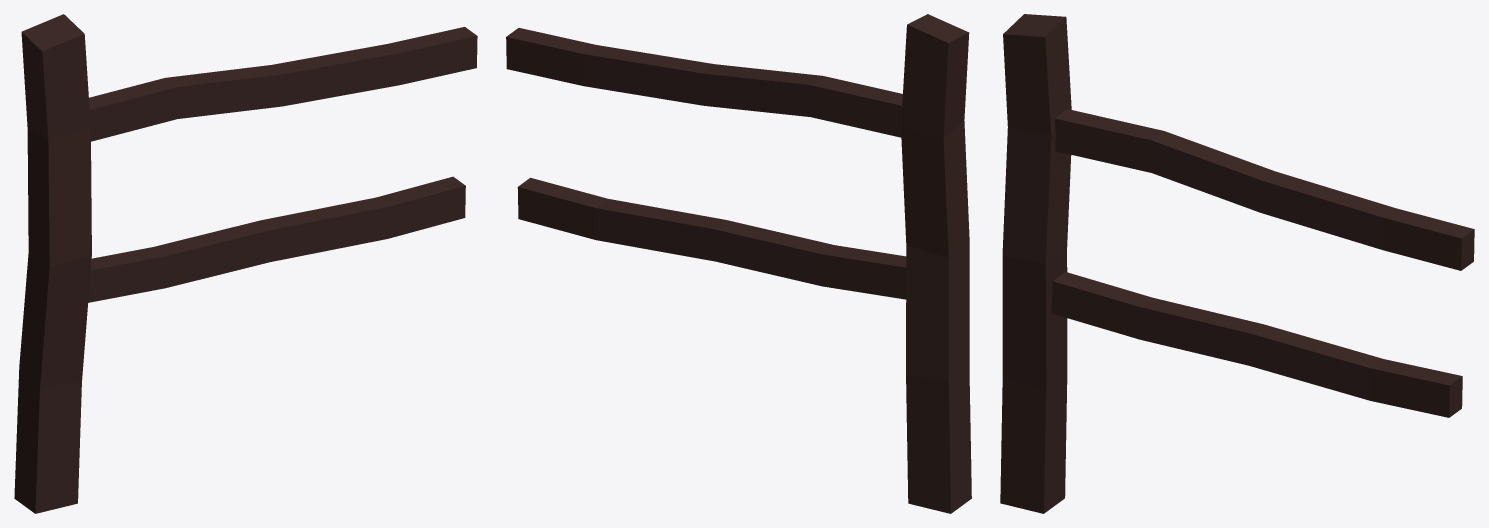
File: fence_short3.fbx
3 renders of one model, left to right at view 1: azimuth 30°, elevation 25°; view 2: azimuth 150°, elevation 25°; view 3: azimuth 330°, elevation 25°, orthographic.
Visible parts, largest first — view 1: fence_s1; view 2: fence_s1; view 3: fence_s1.
Boxes of the visible parts, x1=… form: fence_s1: x1=14, y1=14, x2=477, y2=513; fence_s1: x1=506, y1=14, x2=971, y2=513; fence_s1: x1=1000, y1=14, x2=1474, y2=513.
Size of the model in its own units: 0.9546 by 0.9692 by 0.0997.
